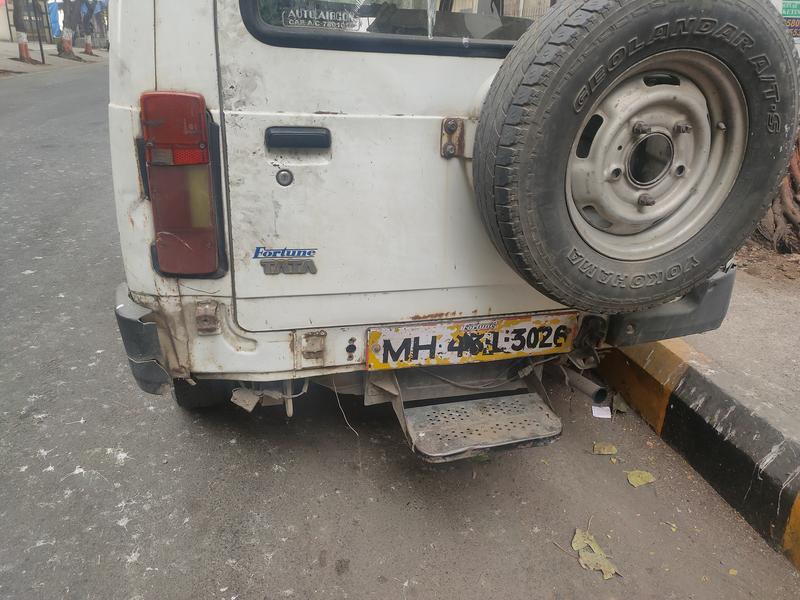license_plate: (356, 307, 589, 374)
